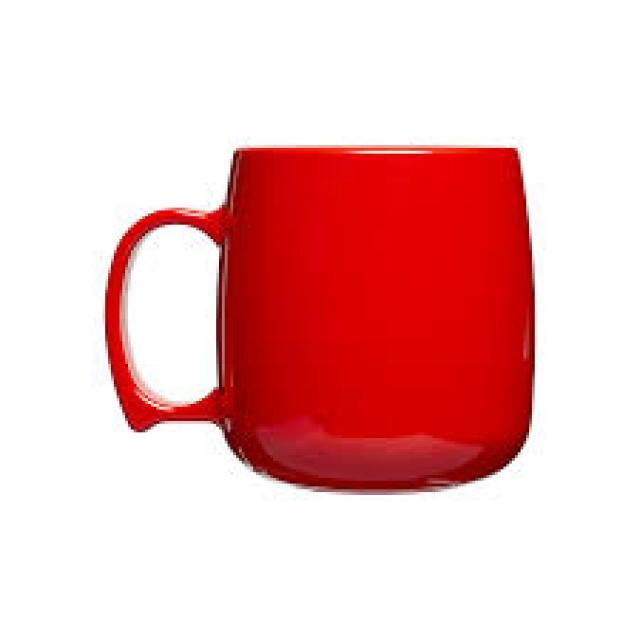taza: (102, 145, 535, 495)
